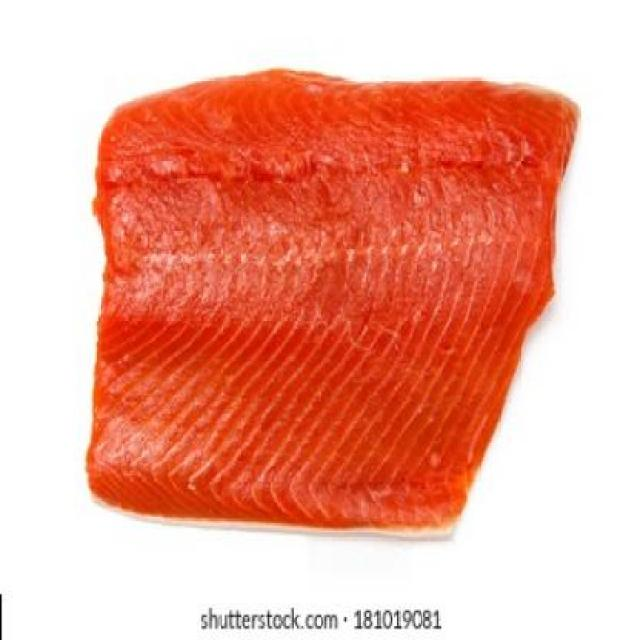salmon: (68, 56, 589, 552)
